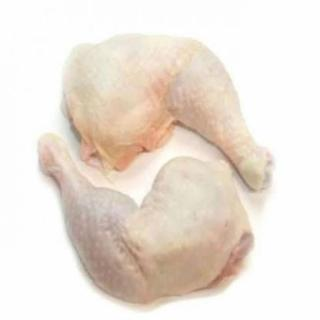Ayam: (38, 132, 255, 305), (67, 36, 273, 191)
